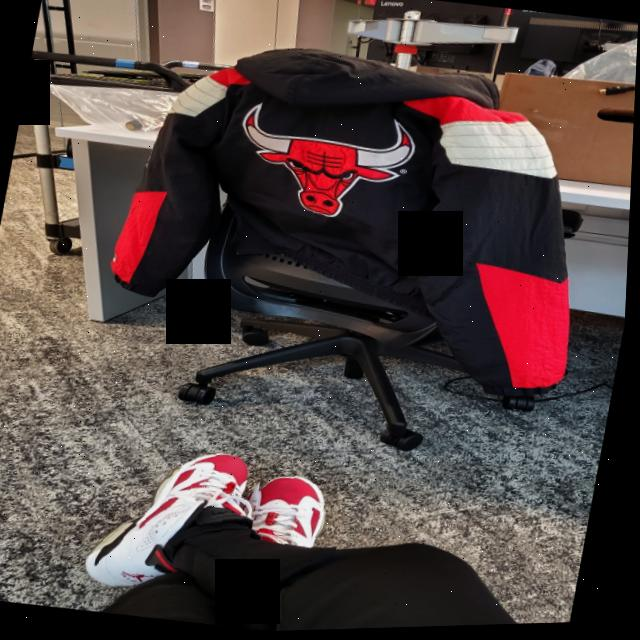shoe: (68, 434, 270, 622), (244, 465, 355, 568)
